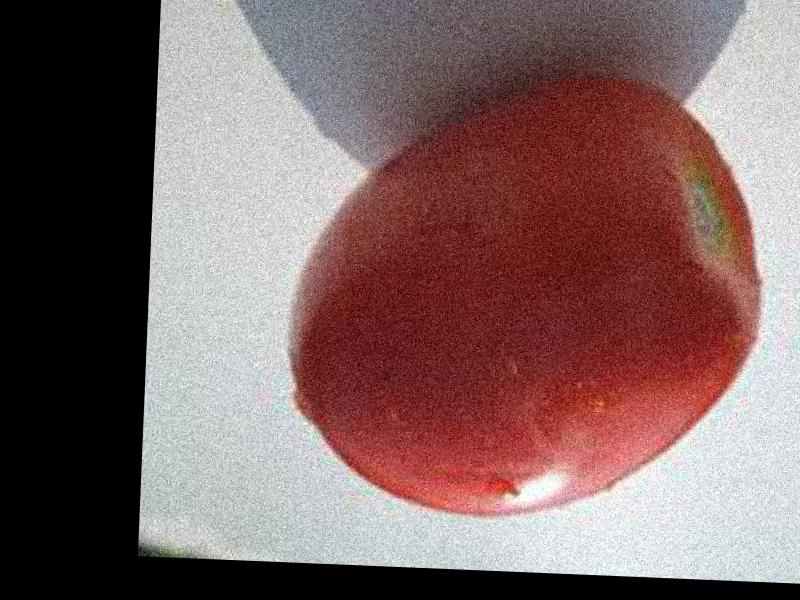Tomato: (284, 67, 769, 528)
